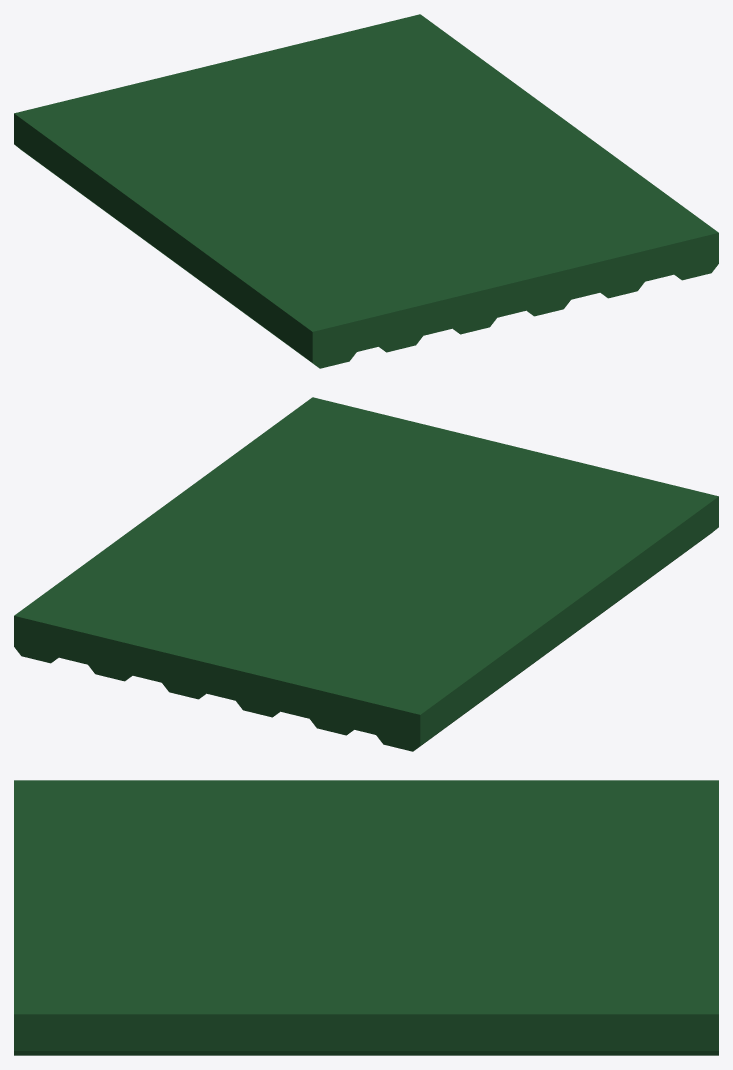
File: MD Wand modern Welloptik.fbx
3 renders of one model, top to bottom at view 1: azimuth 30°, elevation 25°; view 2: azimuth 150°, elevation 25°; view 3: azimuth 270°, elevation 25°, orthographic. The views are drawn at different scales.
Parts seen in each view (by area): view 1: Body1; view 2: Body1; view 3: Body1.
Boxes of the visible parts, bbox=[...] form: Body1: bbox=[14, 14, 718, 368]; Body1: bbox=[14, 397, 718, 751]; Body1: bbox=[14, 780, 718, 1055].
Bounding box in the file's own units: 55 × 5 × 70.
